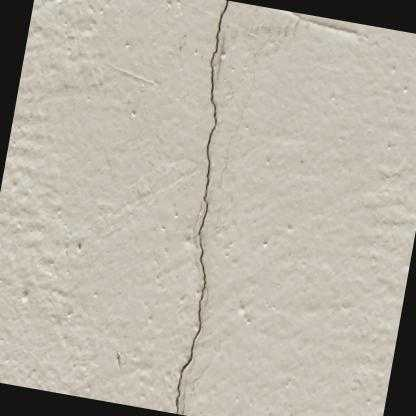crack: (171, 0, 231, 414)
